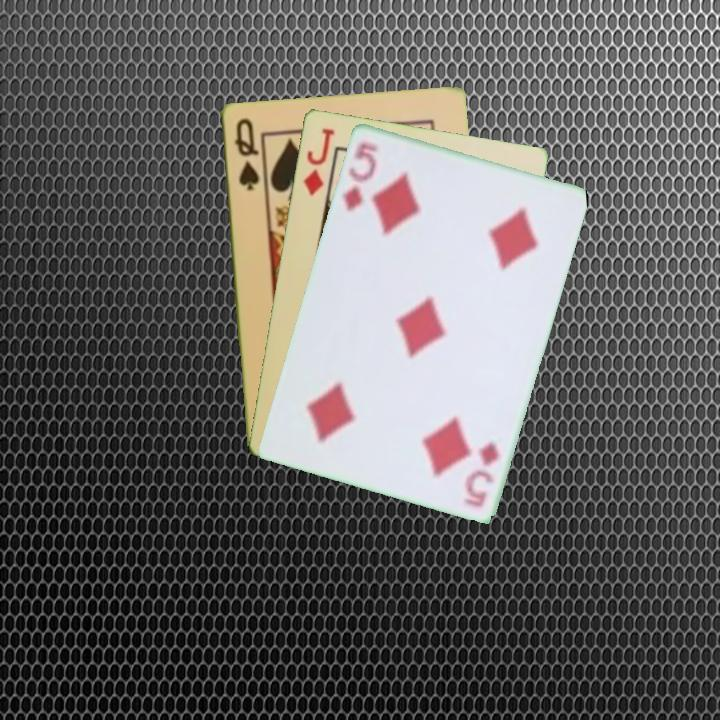5d: (338, 138, 380, 213), (460, 438, 502, 510)
Jd: (299, 124, 337, 198)
Qs: (230, 114, 262, 193)
